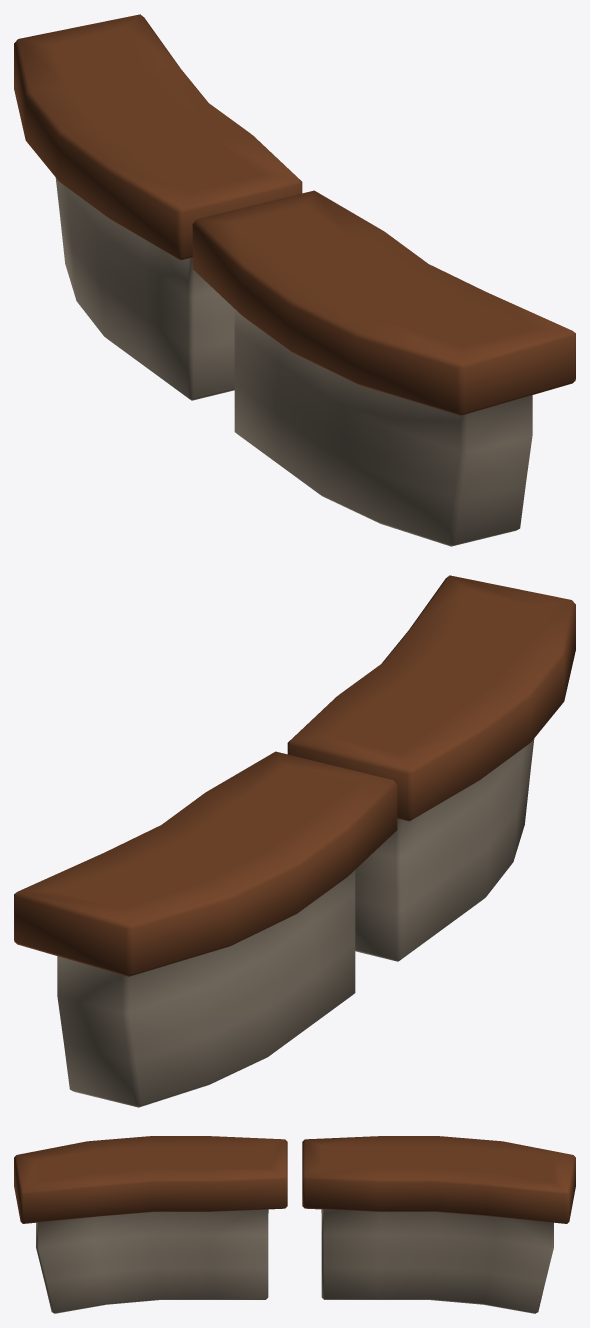
File: Walls.fbx
3 views of the same model, one above another, from view 1: azimuth 30°, elevation 25°; view 2: azimuth 150°, elevation 25°; view 3: azimuth 270°, elevation 25° (orthographic). The views are drawn at different scales.
Visible parts, largest first — view 1: Walls; view 2: Walls; view 3: Walls.
Part boxes in pixels (box(x1,y1,x2,y2)): Walls: box(14, 14, 575, 546); Walls: box(14, 575, 575, 1107); Walls: box(14, 1136, 575, 1313).
Size of the model in its own units: 514 by 558 by 2142.
